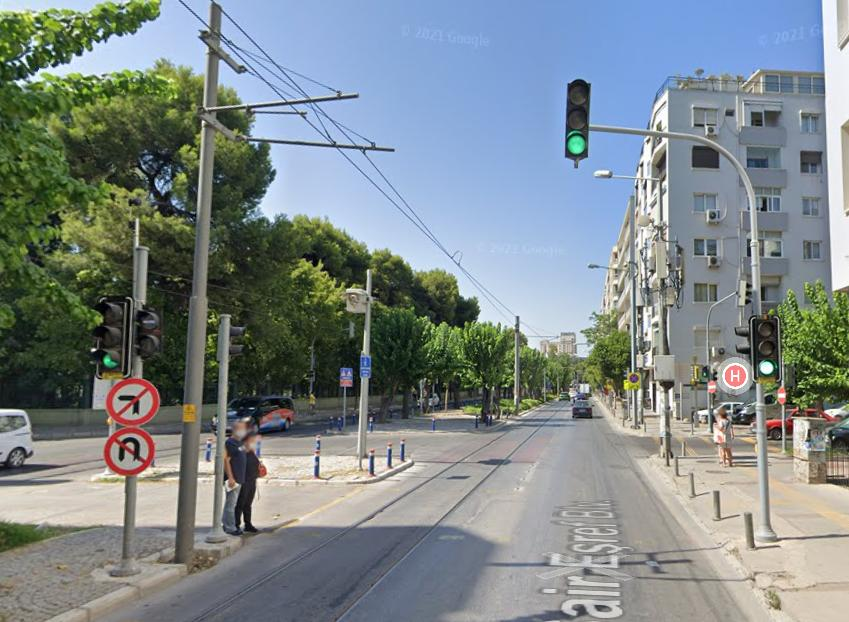leftturnsareforbidden: (102, 374, 161, 428)
